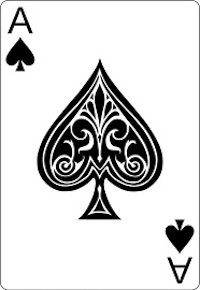AceOfSpades: (2, 1, 200, 289)
